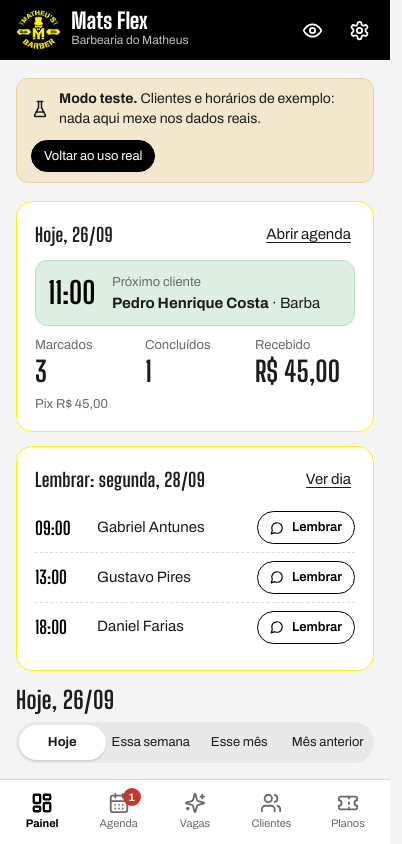
Scenario: modo teste › no teste não há backup nem restauração, para não trazer dado real para cá
Click the button named "Ajustes": (360, 30) 341,12 -> 378,48
(page scrolled)
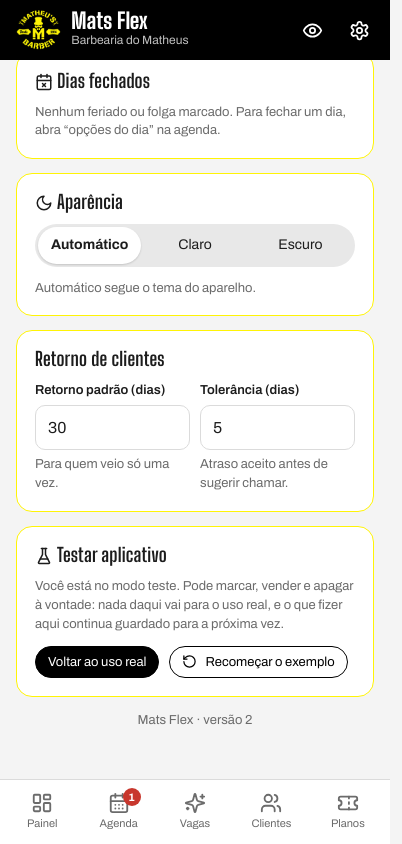
Expected: the button "Recomeçar o exemplo" is shown, 170,646 -> 348,678
